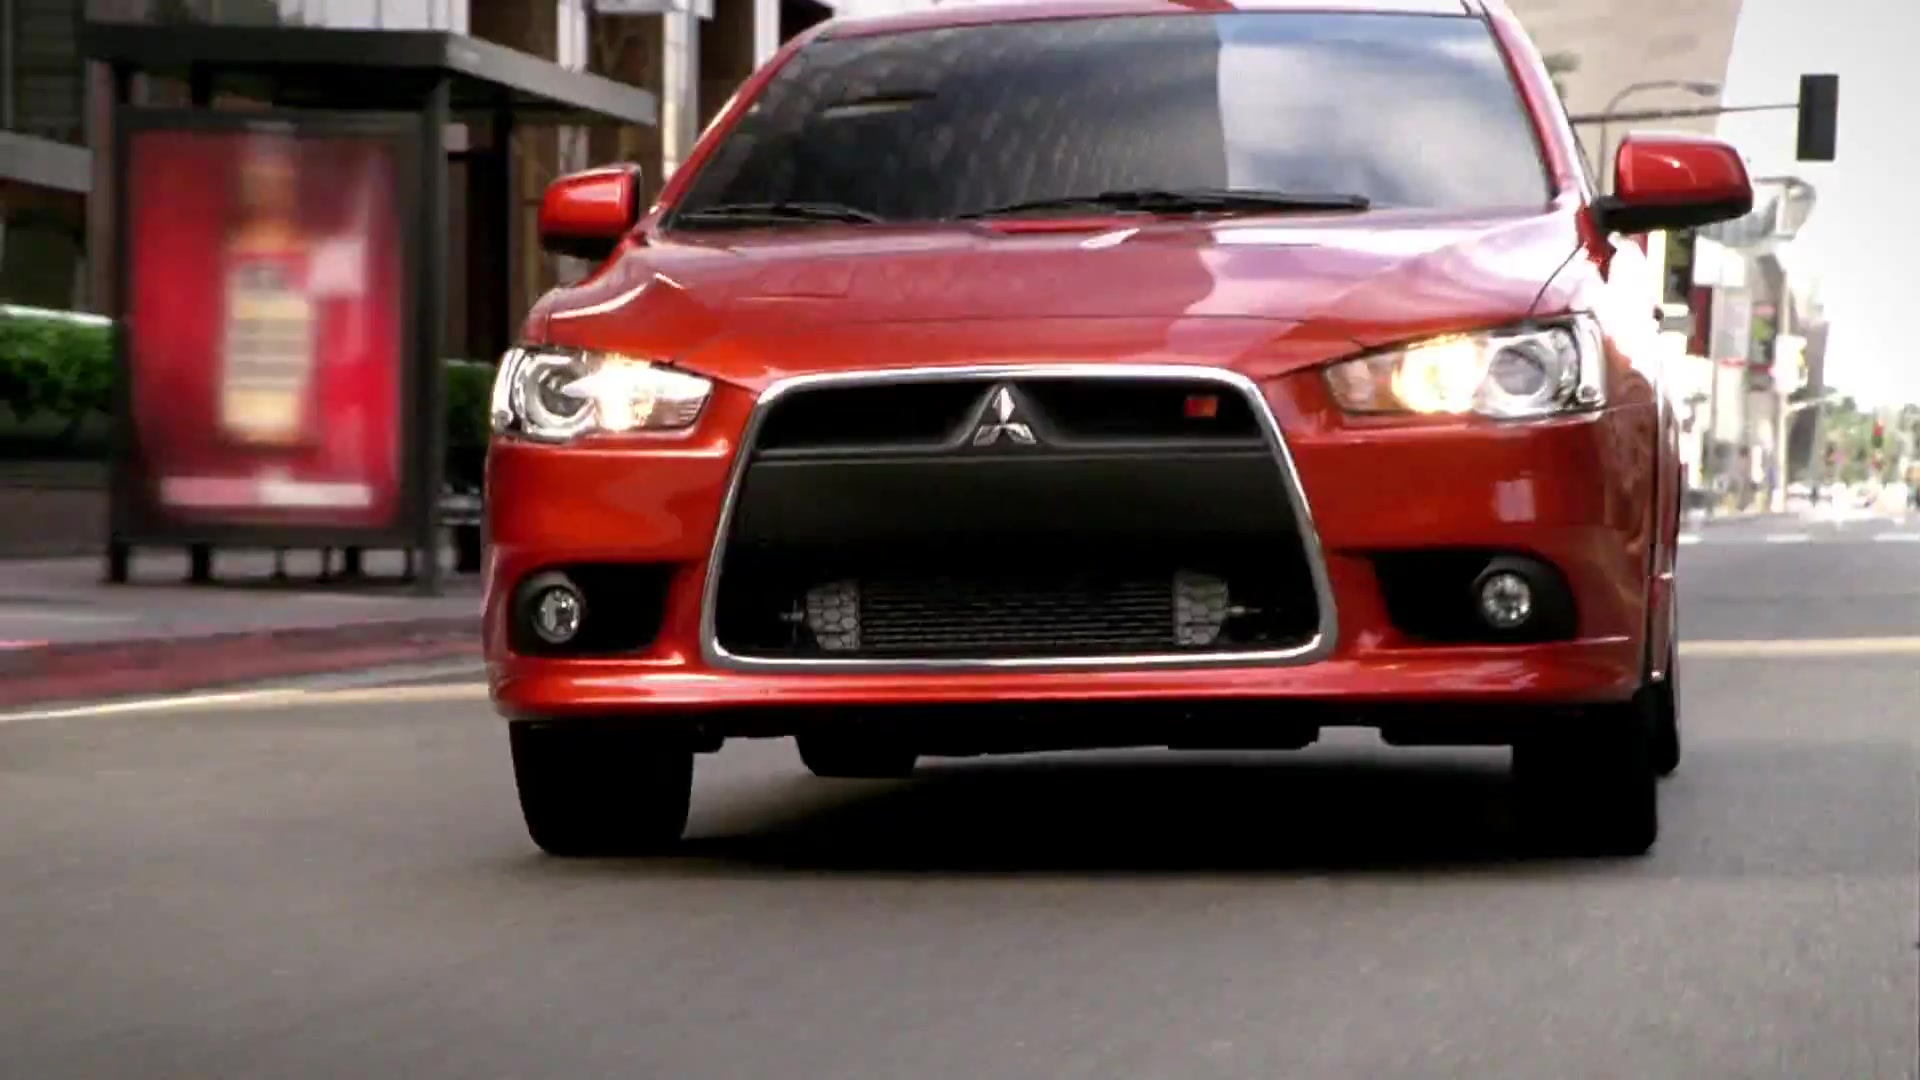car: (458, 8, 1755, 873)
